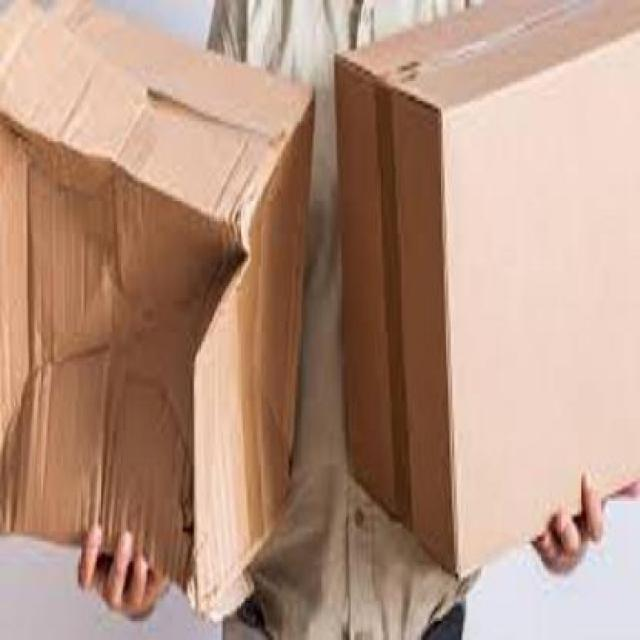defect: (4, 2, 318, 620)
normal: (331, 1, 640, 578)
